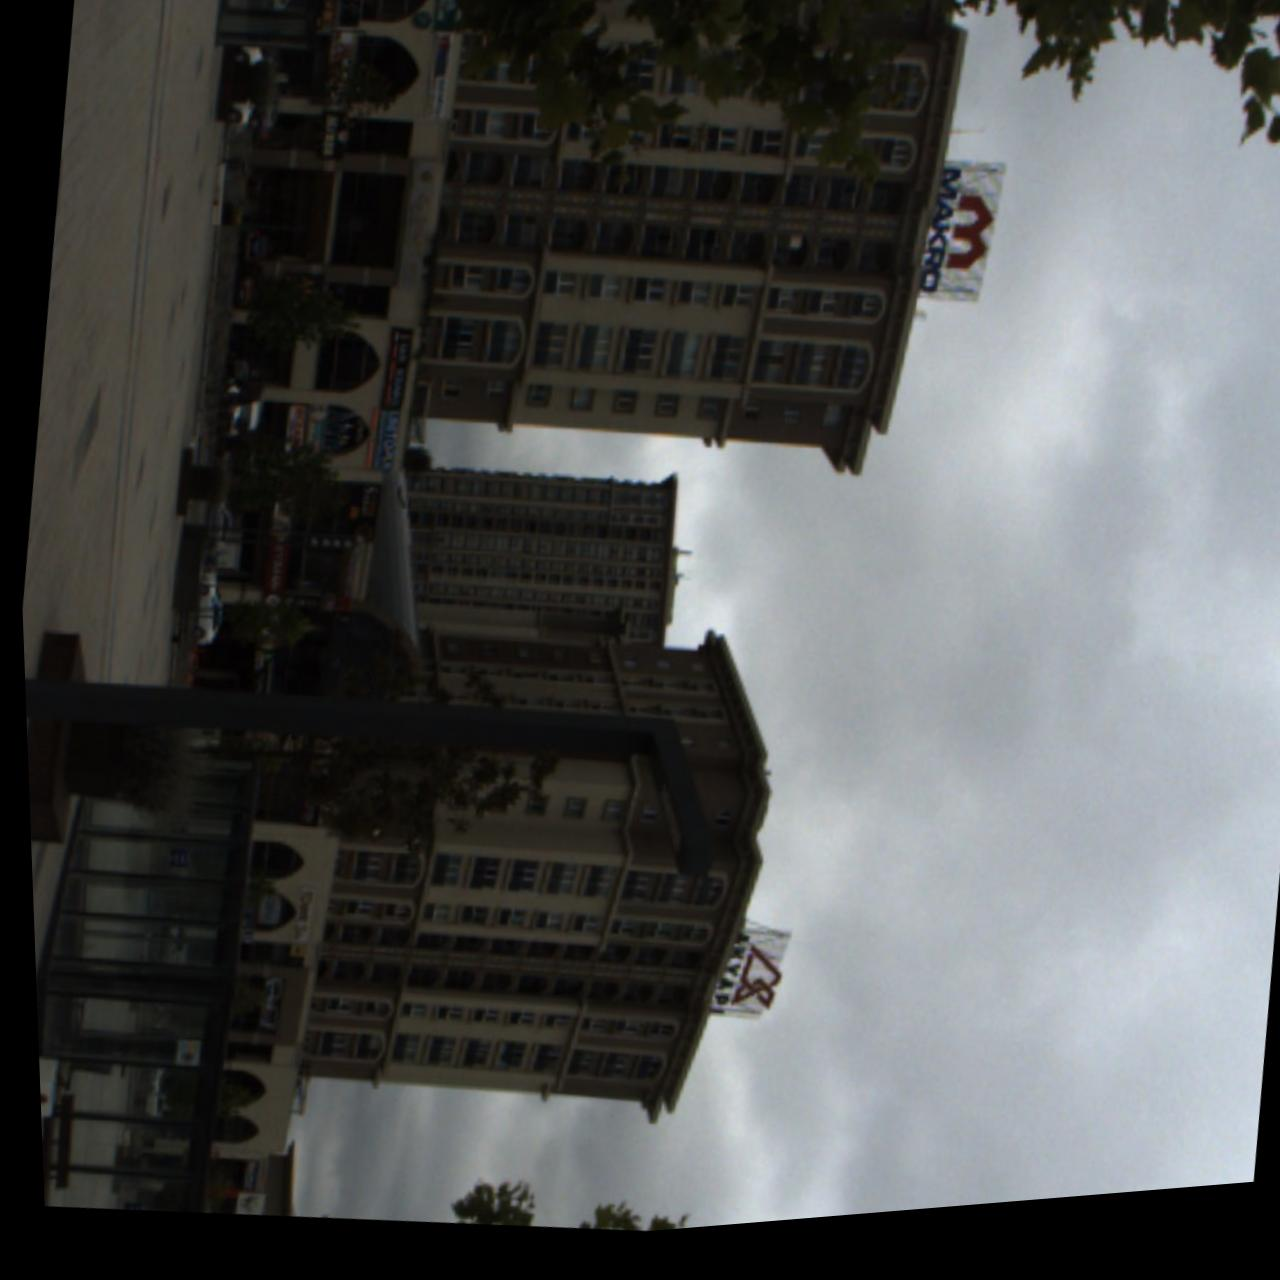SignStore: (377, 334, 409, 416), (428, 40, 451, 128), (368, 416, 395, 481)
